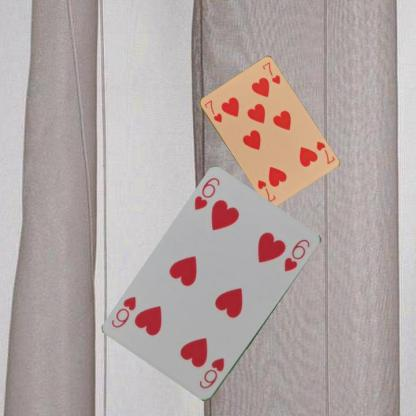6h: (192, 175, 222, 212), (196, 356, 226, 390)
7h: (314, 139, 336, 165), (202, 97, 223, 124)
